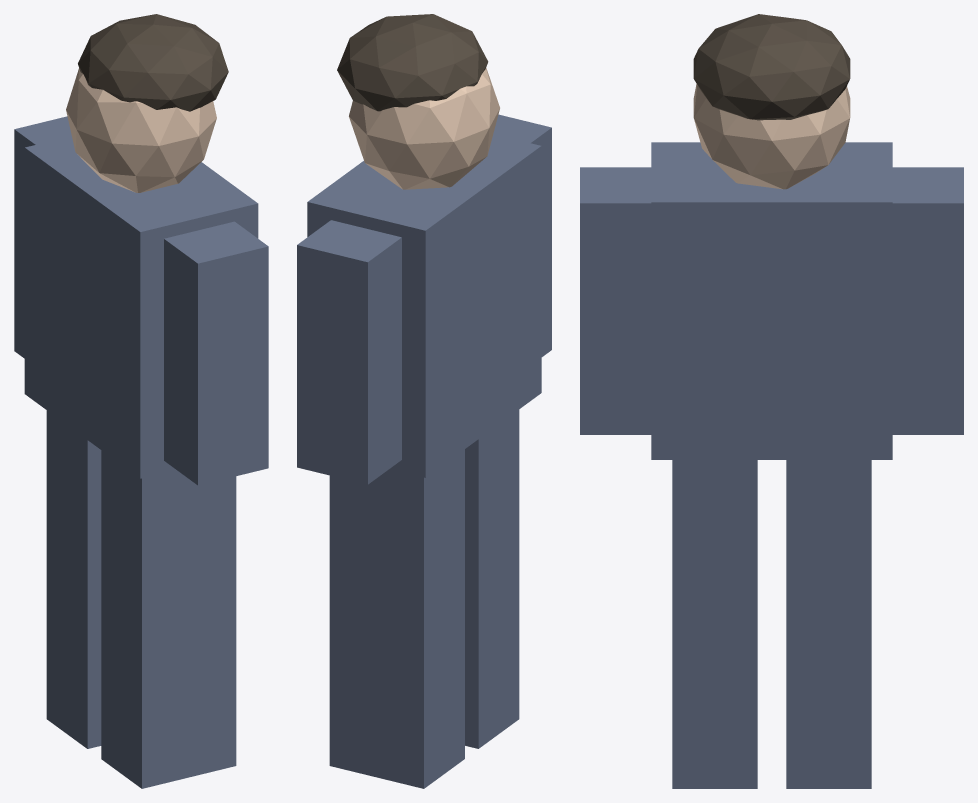
The model's file is Boy.glb.
3 views of the same model, side by side, from view 1: azimuth 30°, elevation 25°; view 2: azimuth 150°, elevation 25°; view 3: azimuth 270°, elevation 25° (orthographic). The views are drawn at different scales.
Visible parts, largest first — view 1: BoyTorso, BoyLeg2, BoyArm2, BoyLeg1, BoyHead, BoyHair, BoyArm1; view 2: BoyTorso, BoyLeg1, BoyArm1, BoyLeg2, BoyHead, BoyHair, BoyArm2; view 3: BoyTorso, BoyLeg1, BoyLeg2, BoyArm1, BoyArm2, BoyHair, BoyHead.
Boxes of the visible parts, x1,y1,x2,y2 form: BoyTorso: [24, 136, 258, 478]; BoyLeg2: [101, 450, 236, 788]; BoyArm2: [164, 221, 268, 485]; BoyLeg1: [46, 410, 101, 748]; BoyHead: [66, 68, 216, 192]; BoyHair: [78, 14, 228, 111]; BoyArm1: [14, 116, 71, 358]; BoyTorso: [307, 134, 541, 477]; BoyLeg1: [329, 449, 464, 788]; BoyArm1: [297, 220, 401, 484]; BoyLeg2: [465, 409, 519, 748]; BoyHead: [349, 67, 499, 189]; BoyHair: [337, 14, 488, 111]; BoyArm2: [493, 114, 551, 356]; BoyTorso: [651, 142, 892, 459]; BoyLeg1: [786, 460, 871, 788]; BoyLeg2: [672, 460, 757, 788]; BoyArm1: [892, 167, 963, 434]; BoyArm2: [580, 167, 651, 434]; BoyHair: [693, 14, 850, 120]; BoyHead: [693, 84, 850, 189].
Bounding box in the file's own units: 0.24 × 1.16 × 0.54.
